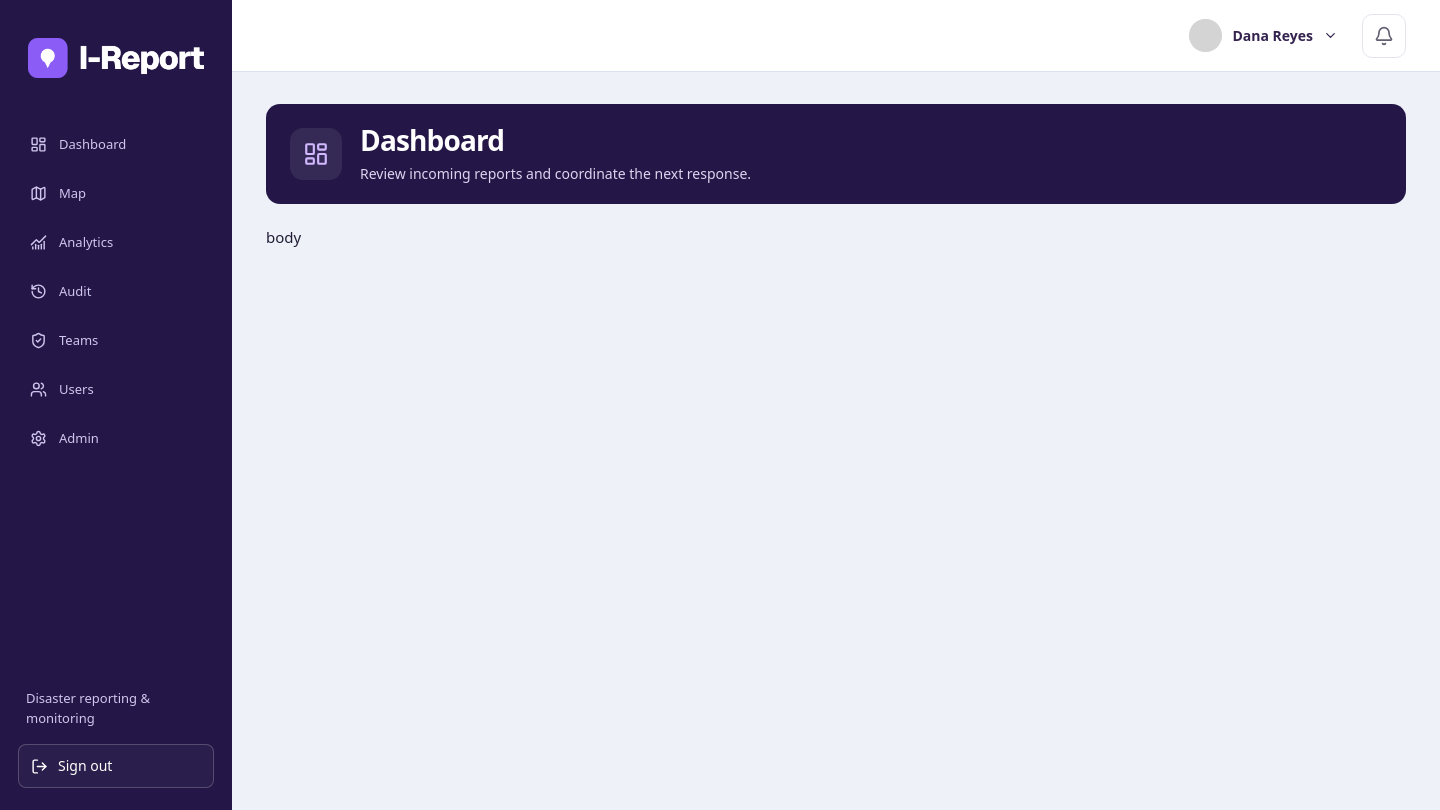
Test case: AppShell profile photo › Remove photo returns to initials
Click the button named "Open profile for Dana Reyes": (1264, 36) [1182,14,1346,58]
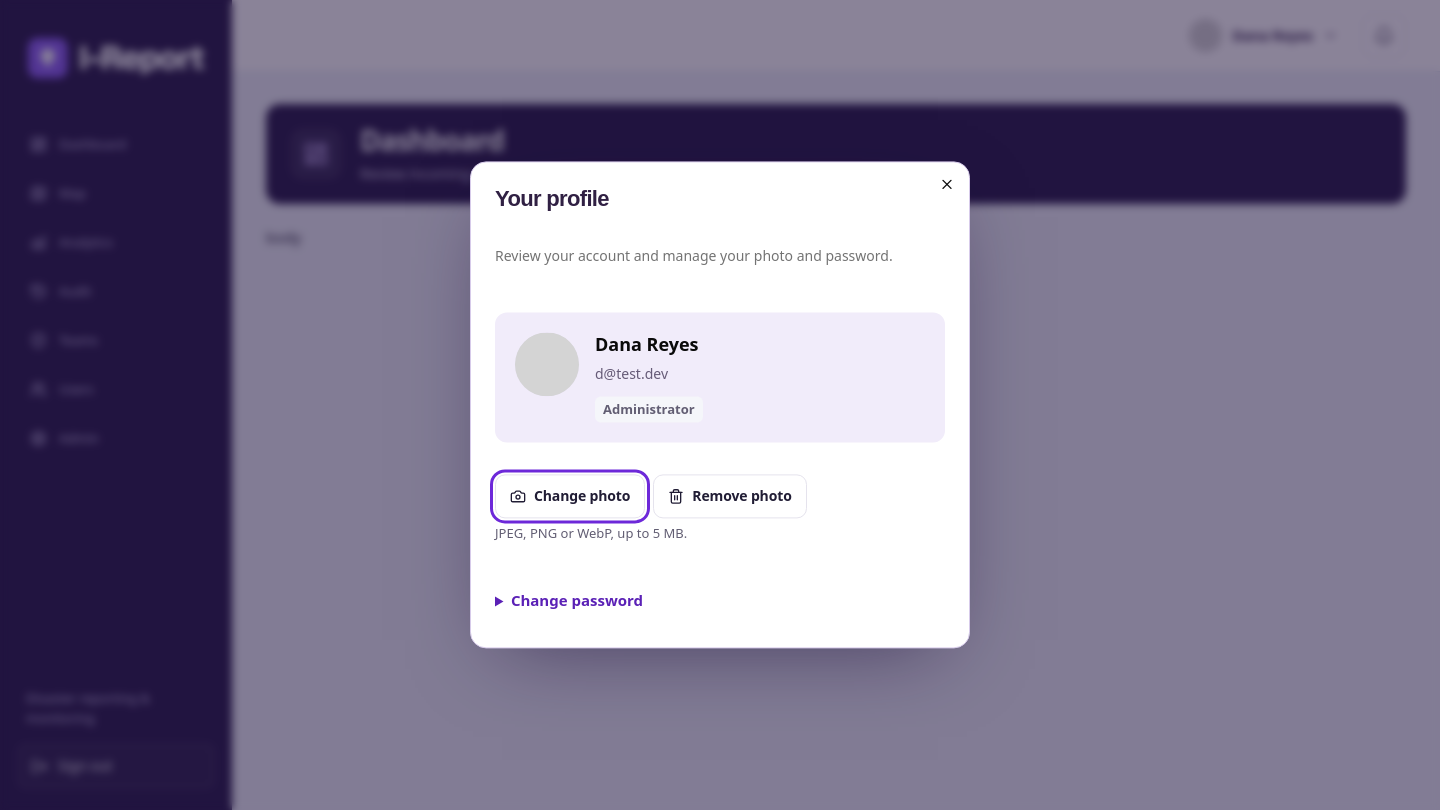
Click the button "Remove photo": (730, 497) [653,475,807,519]
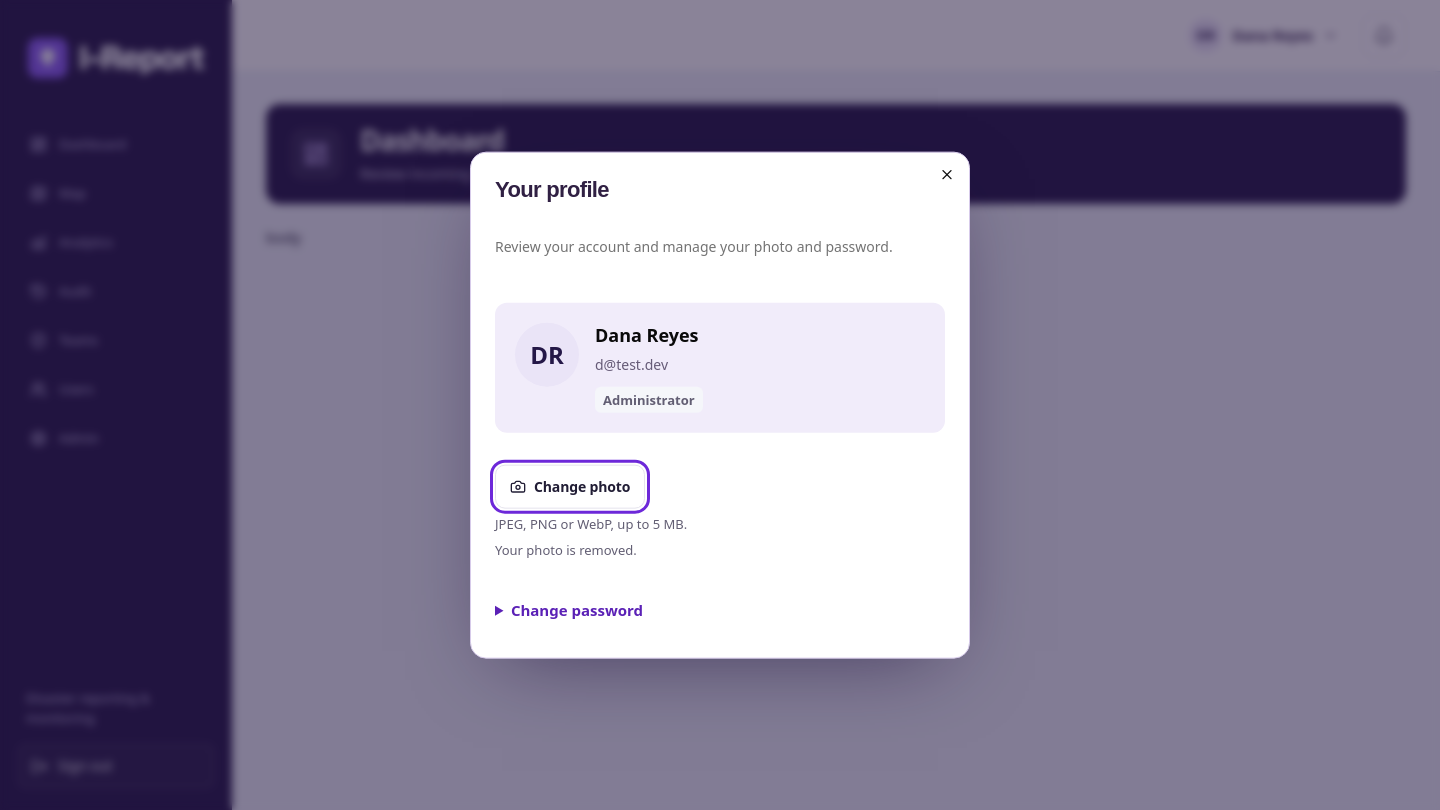
Expected: the text "DR" is shown, [515,323,579,387]
Expected: the button "Remove photo" is gone
Expected: the message reads "Your photo is removed.", [495,540,637,558]
